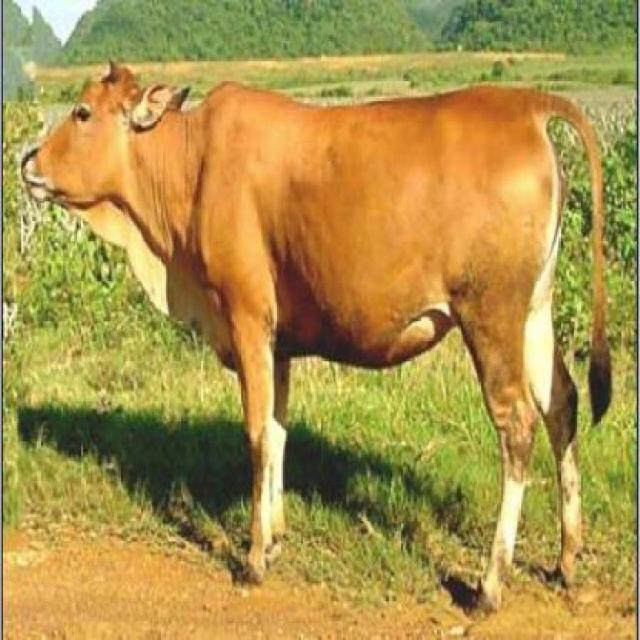Cow: (20, 58, 612, 617)
